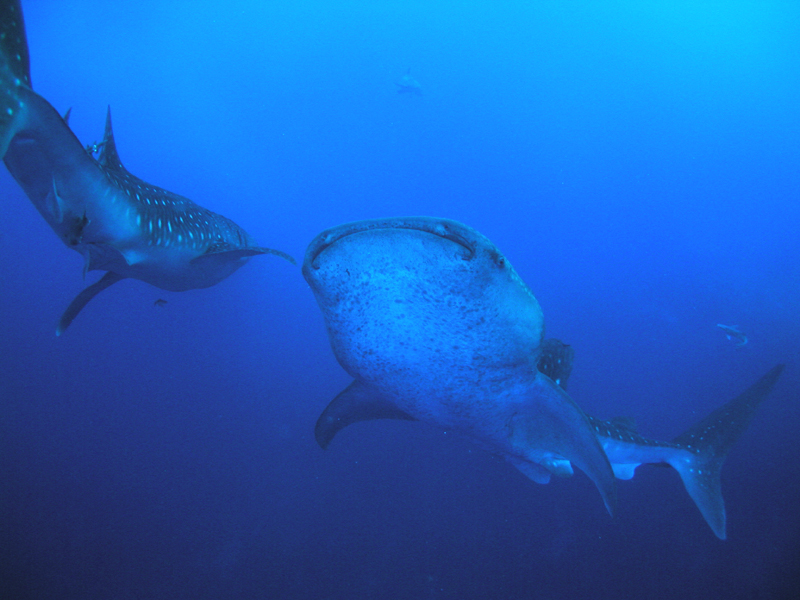Rhincodon_typusw: (285, 199, 791, 568), (1, 29, 284, 361)
